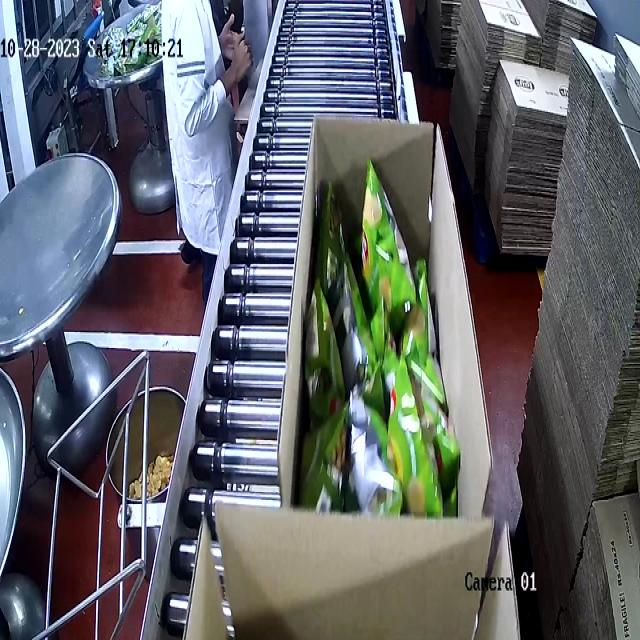YOGURT_HERB: (296, 156, 461, 519)
